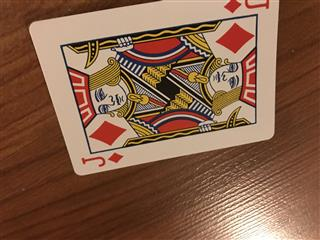JackOfDiamonds: (27, 1, 279, 176)
